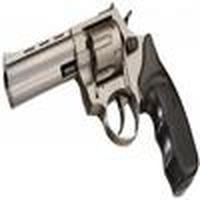gun: (2, 5, 200, 184)
